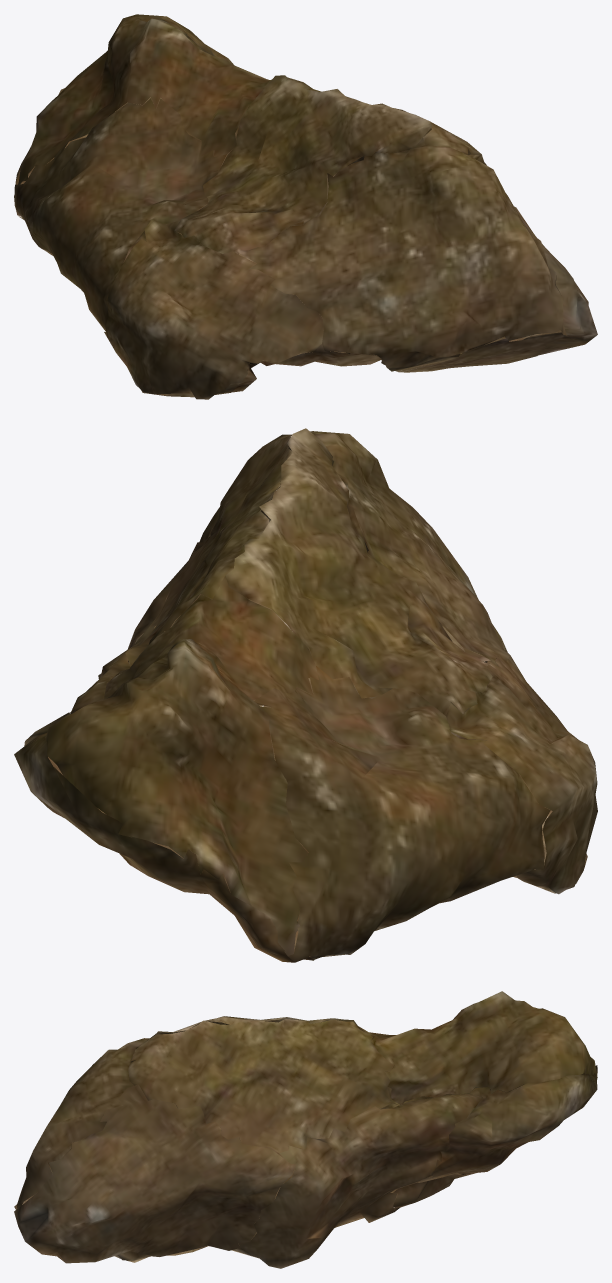
Rendered from scanned_boulder0.glb.
The picture shows the model from 3 angles, top to bottom: view 1: azimuth 30°, elevation 25°; view 2: azimuth 150°, elevation 25°; view 3: azimuth 270°, elevation 25°; orthographic projection. The views are drawn at different scales.
Visible parts, largest first — view 1: scanned_boulder0; view 2: scanned_boulder0; view 3: scanned_boulder0.
Boxes of the visible parts, left/top/right/bottom form: scanned_boulder0: left=14, top=14, right=597, bottom=399; scanned_boulder0: left=14, top=428, right=597, bottom=962; scanned_boulder0: left=14, top=991, right=597, bottom=1268.
Bounding box in the file's own units: 1.99 × 1.31 × 3.01.
1 material, 1 textured.
